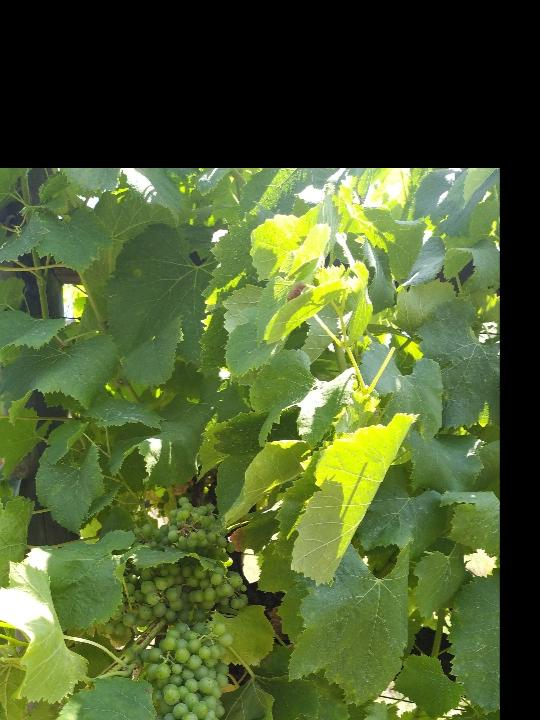grape: (100, 497, 268, 720)
